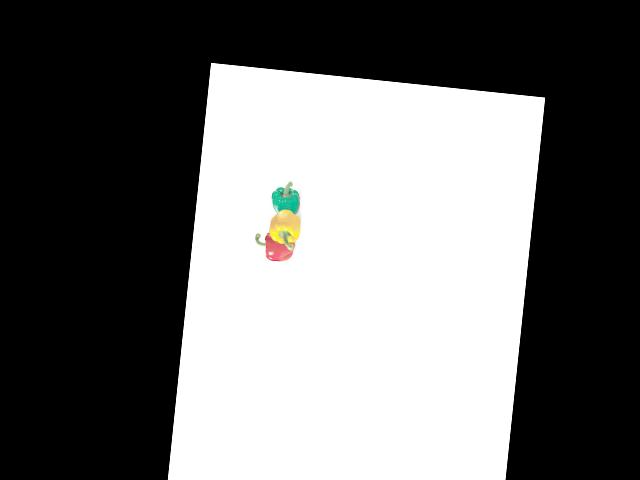bell_pepper: (267, 180, 304, 219)
